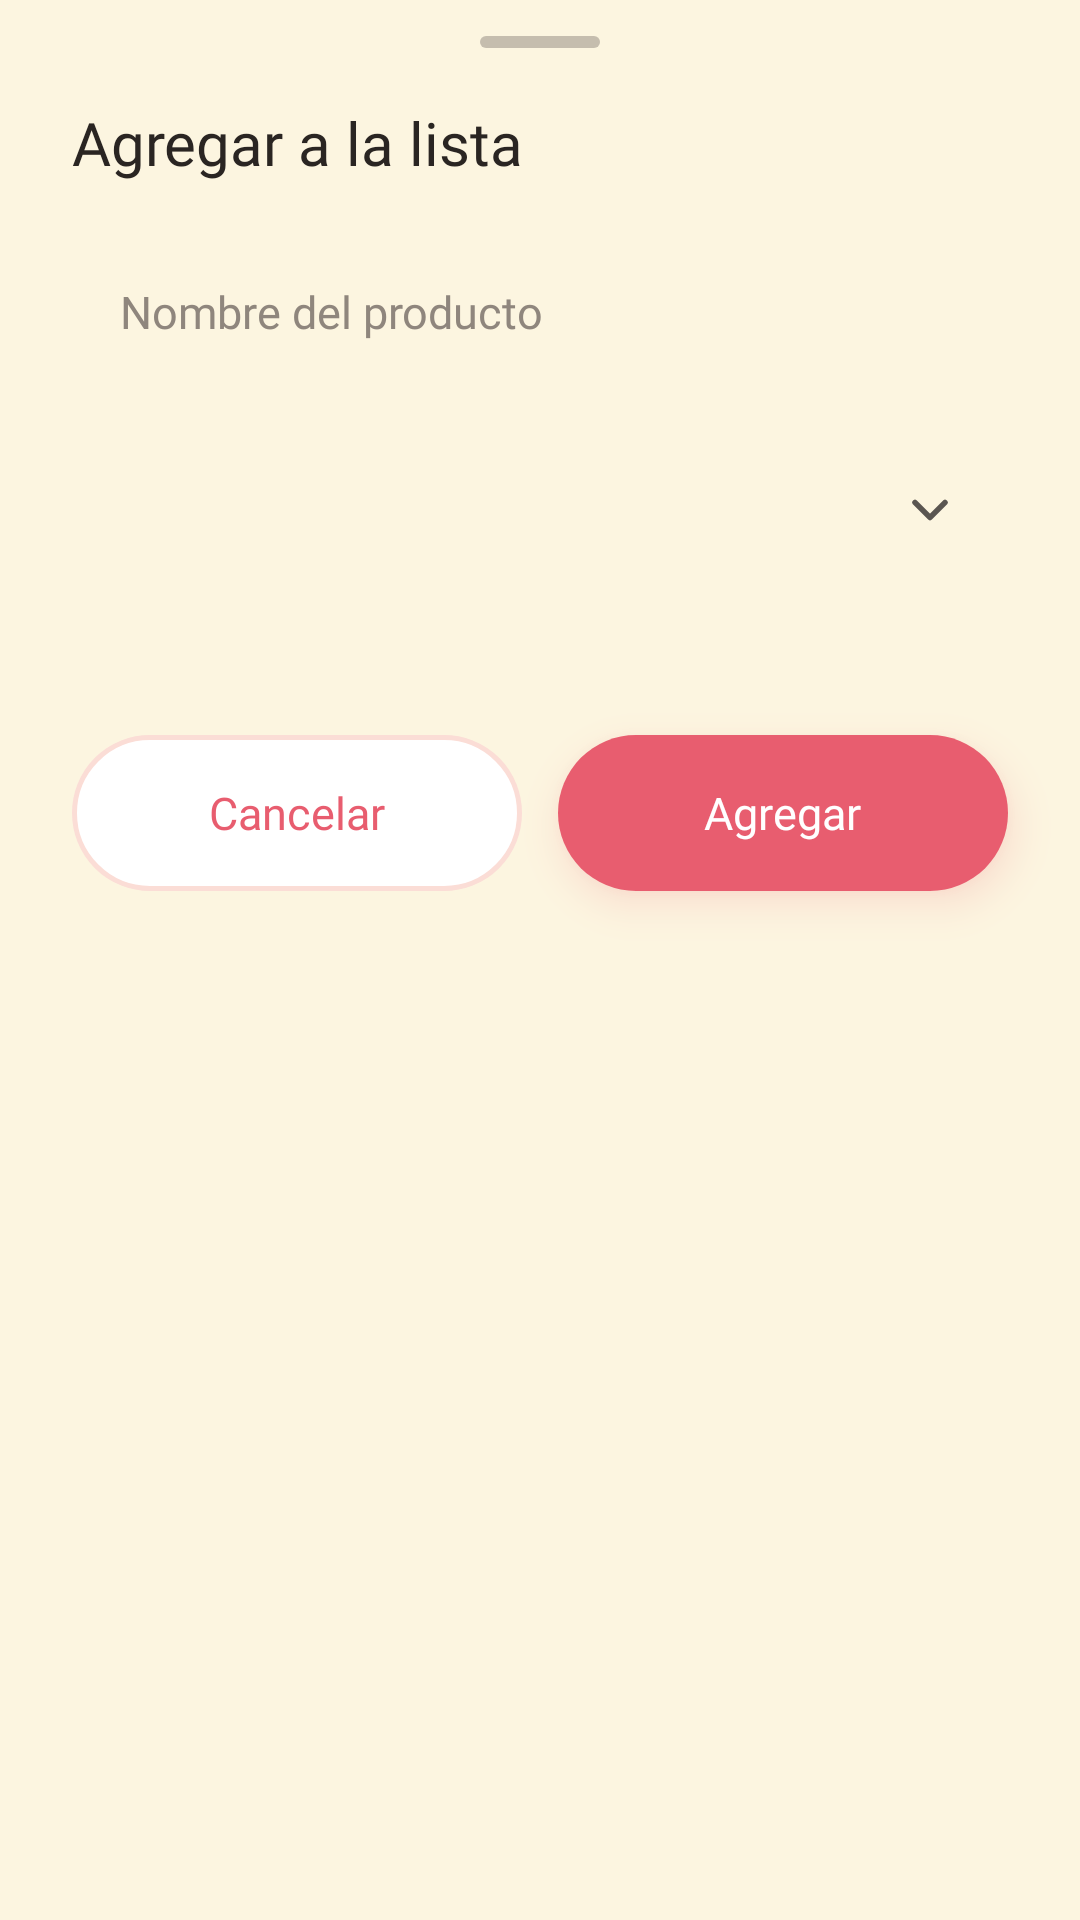

Where icons sit on this 1080×1920 app screen, as (x1, y1, x2, y2):
chevron down: (912, 499, 948, 521)
